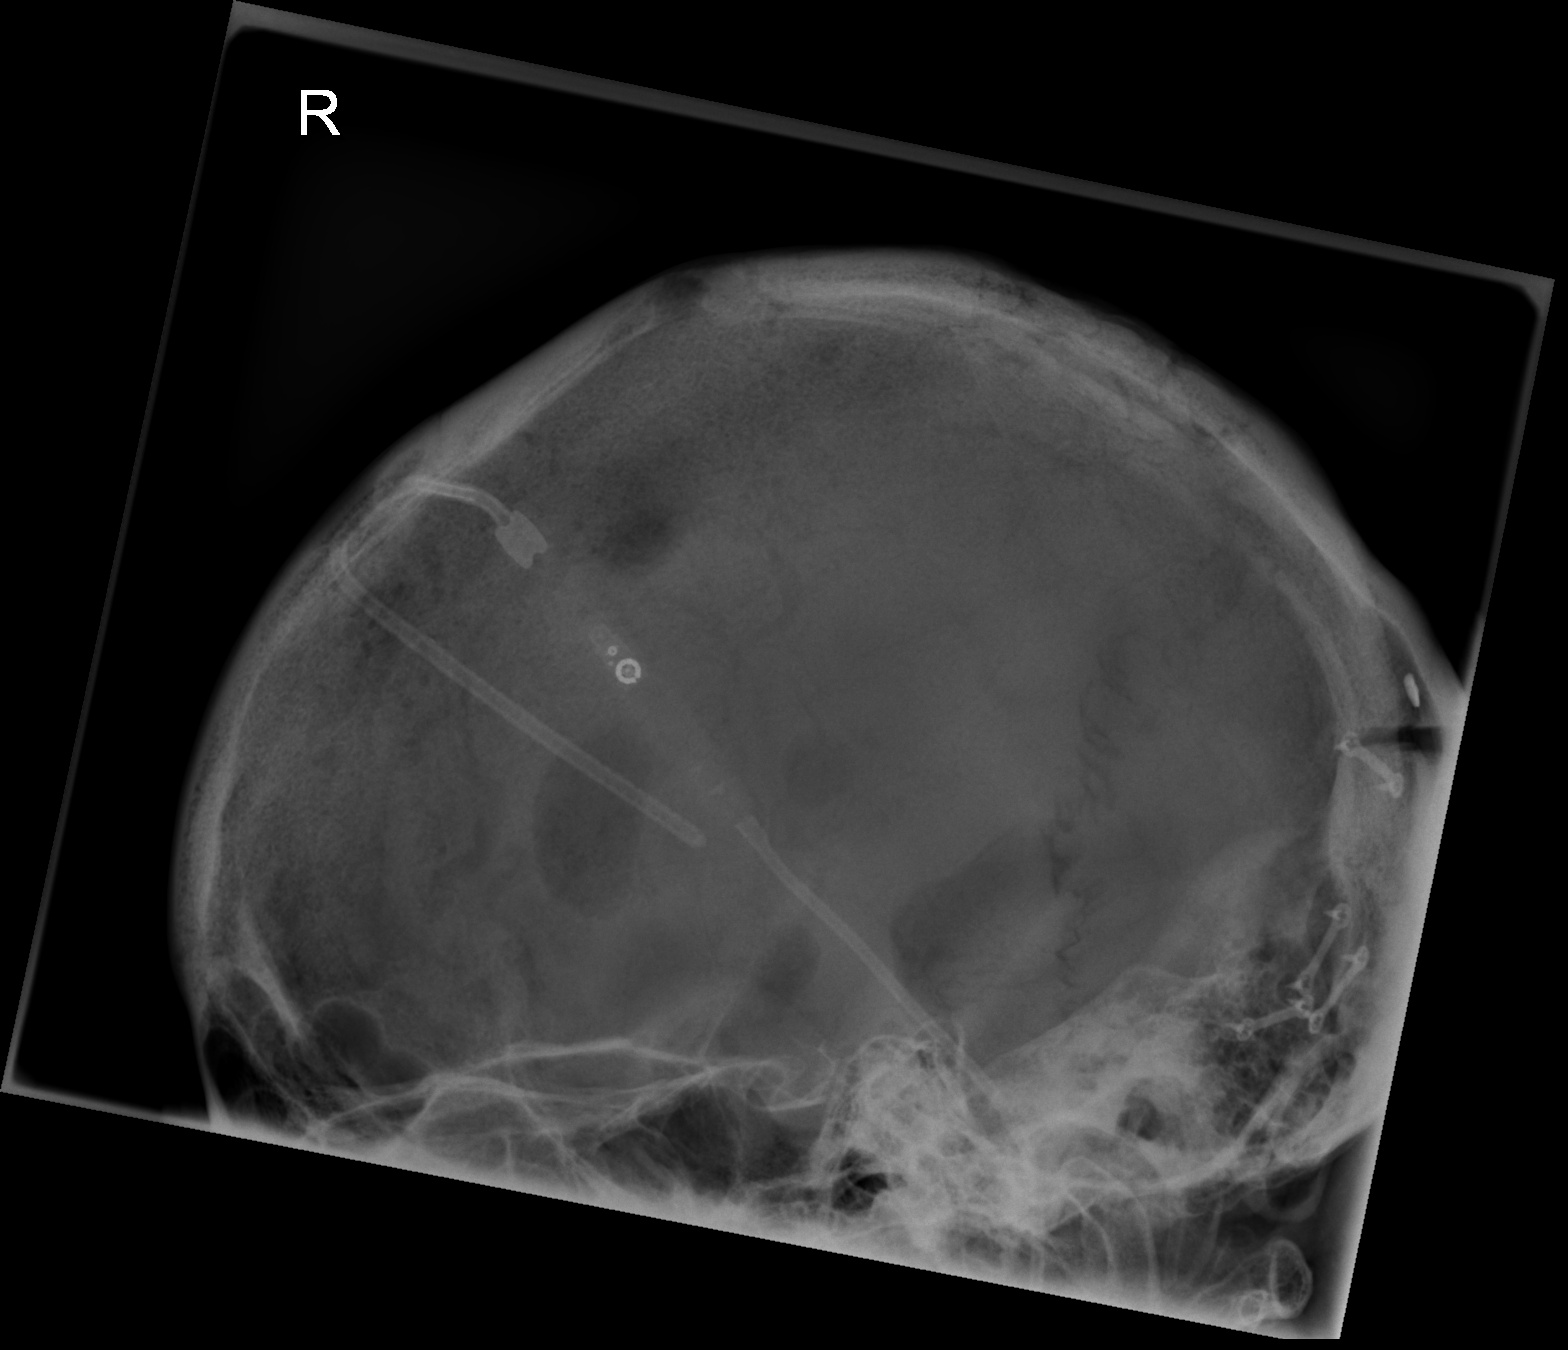Codman Hakim: (599, 642, 649, 706)
